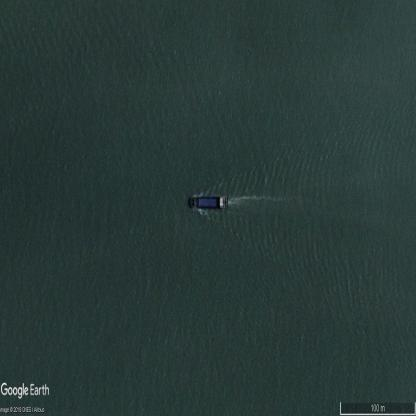ship: (188, 190, 226, 213)
